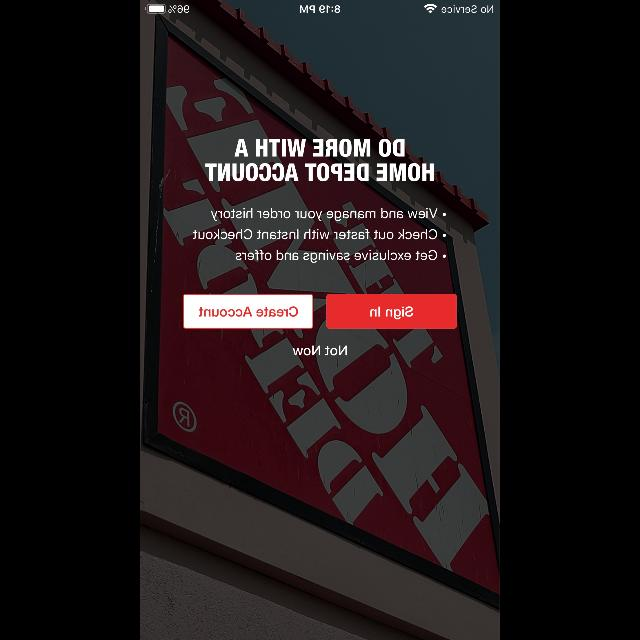backgroundimage: (140, 1, 500, 640)
text: (206, 139, 434, 181), (193, 228, 445, 240), (210, 208, 446, 220), (236, 250, 446, 262), (293, 346, 347, 356)
textbutton: (327, 294, 457, 328), (183, 294, 313, 328)
uppertaskbar: (140, 0, 500, 14)
